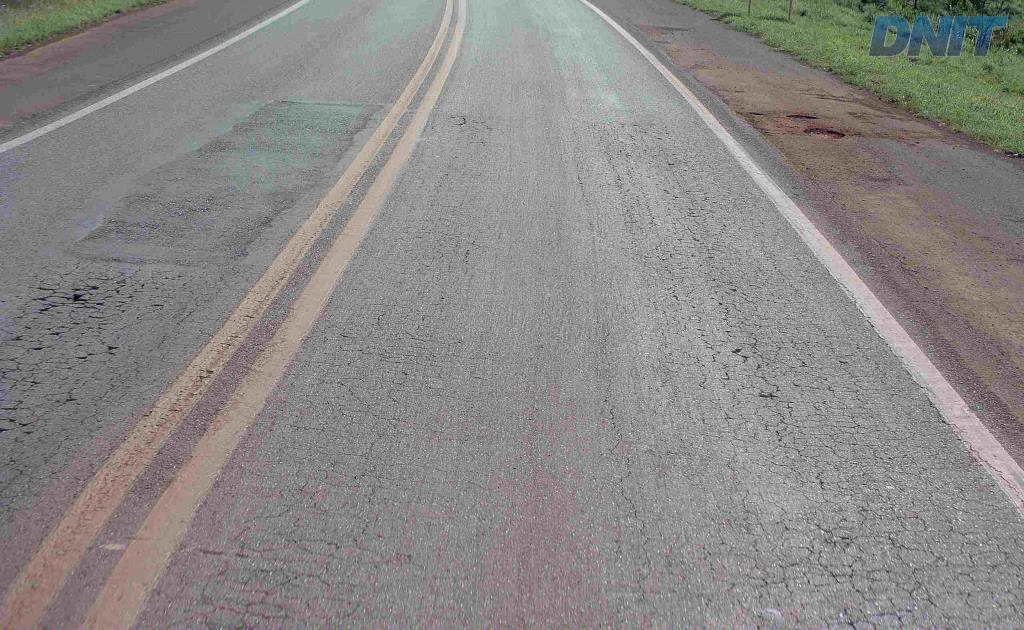crack: (704, 265, 755, 304)
